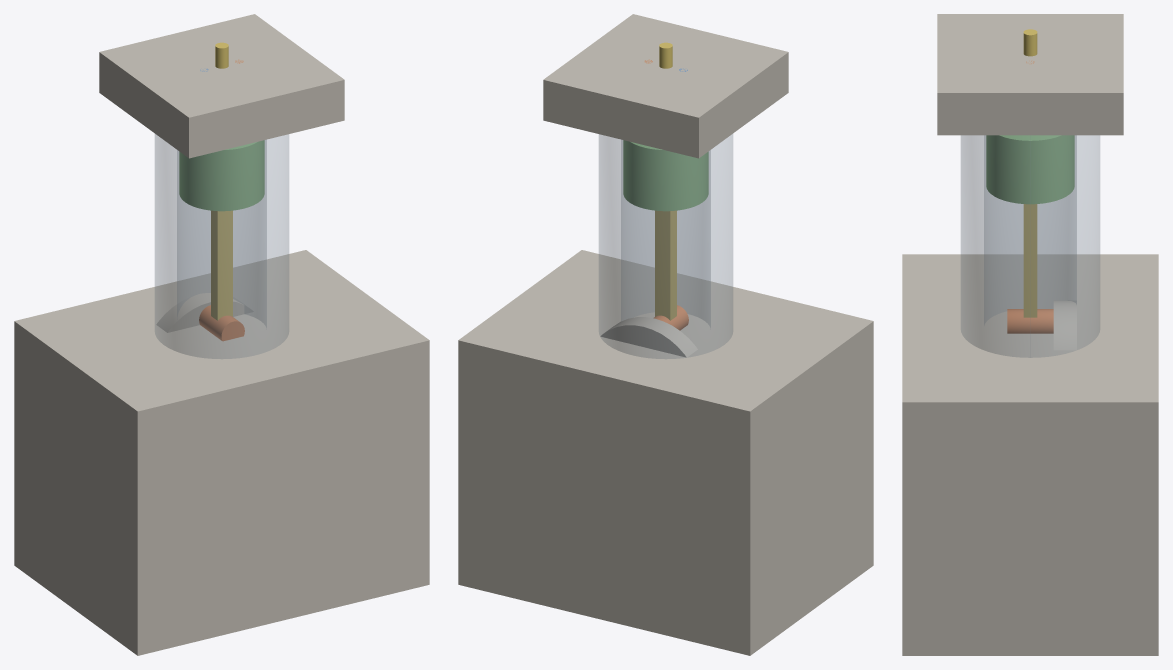
Rendered from four_stroke.glb.
3 renders of one model, left to right at view 1: azimuth 30°, elevation 25°; view 2: azimuth 150°, elevation 25°; view 3: azimuth 270°, elevation 25°, orthographic. The views are drawn at different scales.
Visible parts, largest first — view 1: crankcase, cylinder, head, piston, rod, crank, crank_pin; view 2: crankcase, cylinder, head, piston, rod, crank; view 3: crankcase, cylinder, head, piston, rod, crank, crank_pin, spark_plug.
Part boxes in pixels (box(x1,y1,x2,y2)): crankcase: box(14, 250, 429, 655); cylinder: box(155, 134, 288, 358); head: box(99, 14, 344, 158); piston: box(179, 140, 264, 211); rod: box(211, 210, 232, 320); crank: box(156, 292, 253, 332); crank_pin: box(199, 305, 244, 341); crankcase: box(458, 250, 873, 655); cylinder: box(599, 134, 732, 358); head: box(543, 14, 788, 158); piston: box(623, 140, 708, 211); rod: box(655, 210, 676, 320); crank: box(600, 317, 697, 357); crankcase: box(902, 254, 1158, 655); cylinder: box(961, 135, 1099, 357); head: box(937, 14, 1123, 135); piston: box(986, 135, 1074, 204); rod: box(1023, 204, 1037, 317); crank: box(1053, 300, 1076, 350); crank_pin: box(1007, 309, 1053, 333); spark_plug: box(1023, 29, 1037, 56).
Bounding box in the file's own units: 0.3 × 0.52 × 0.22.
